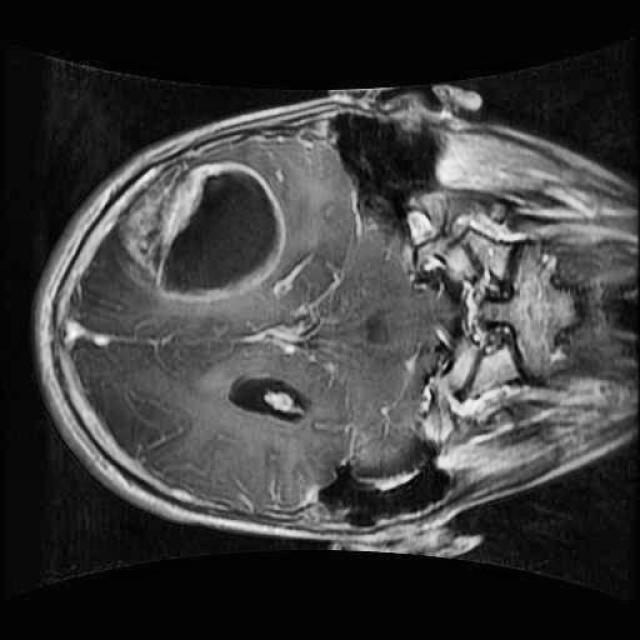Tumor: (108, 148, 294, 312)
